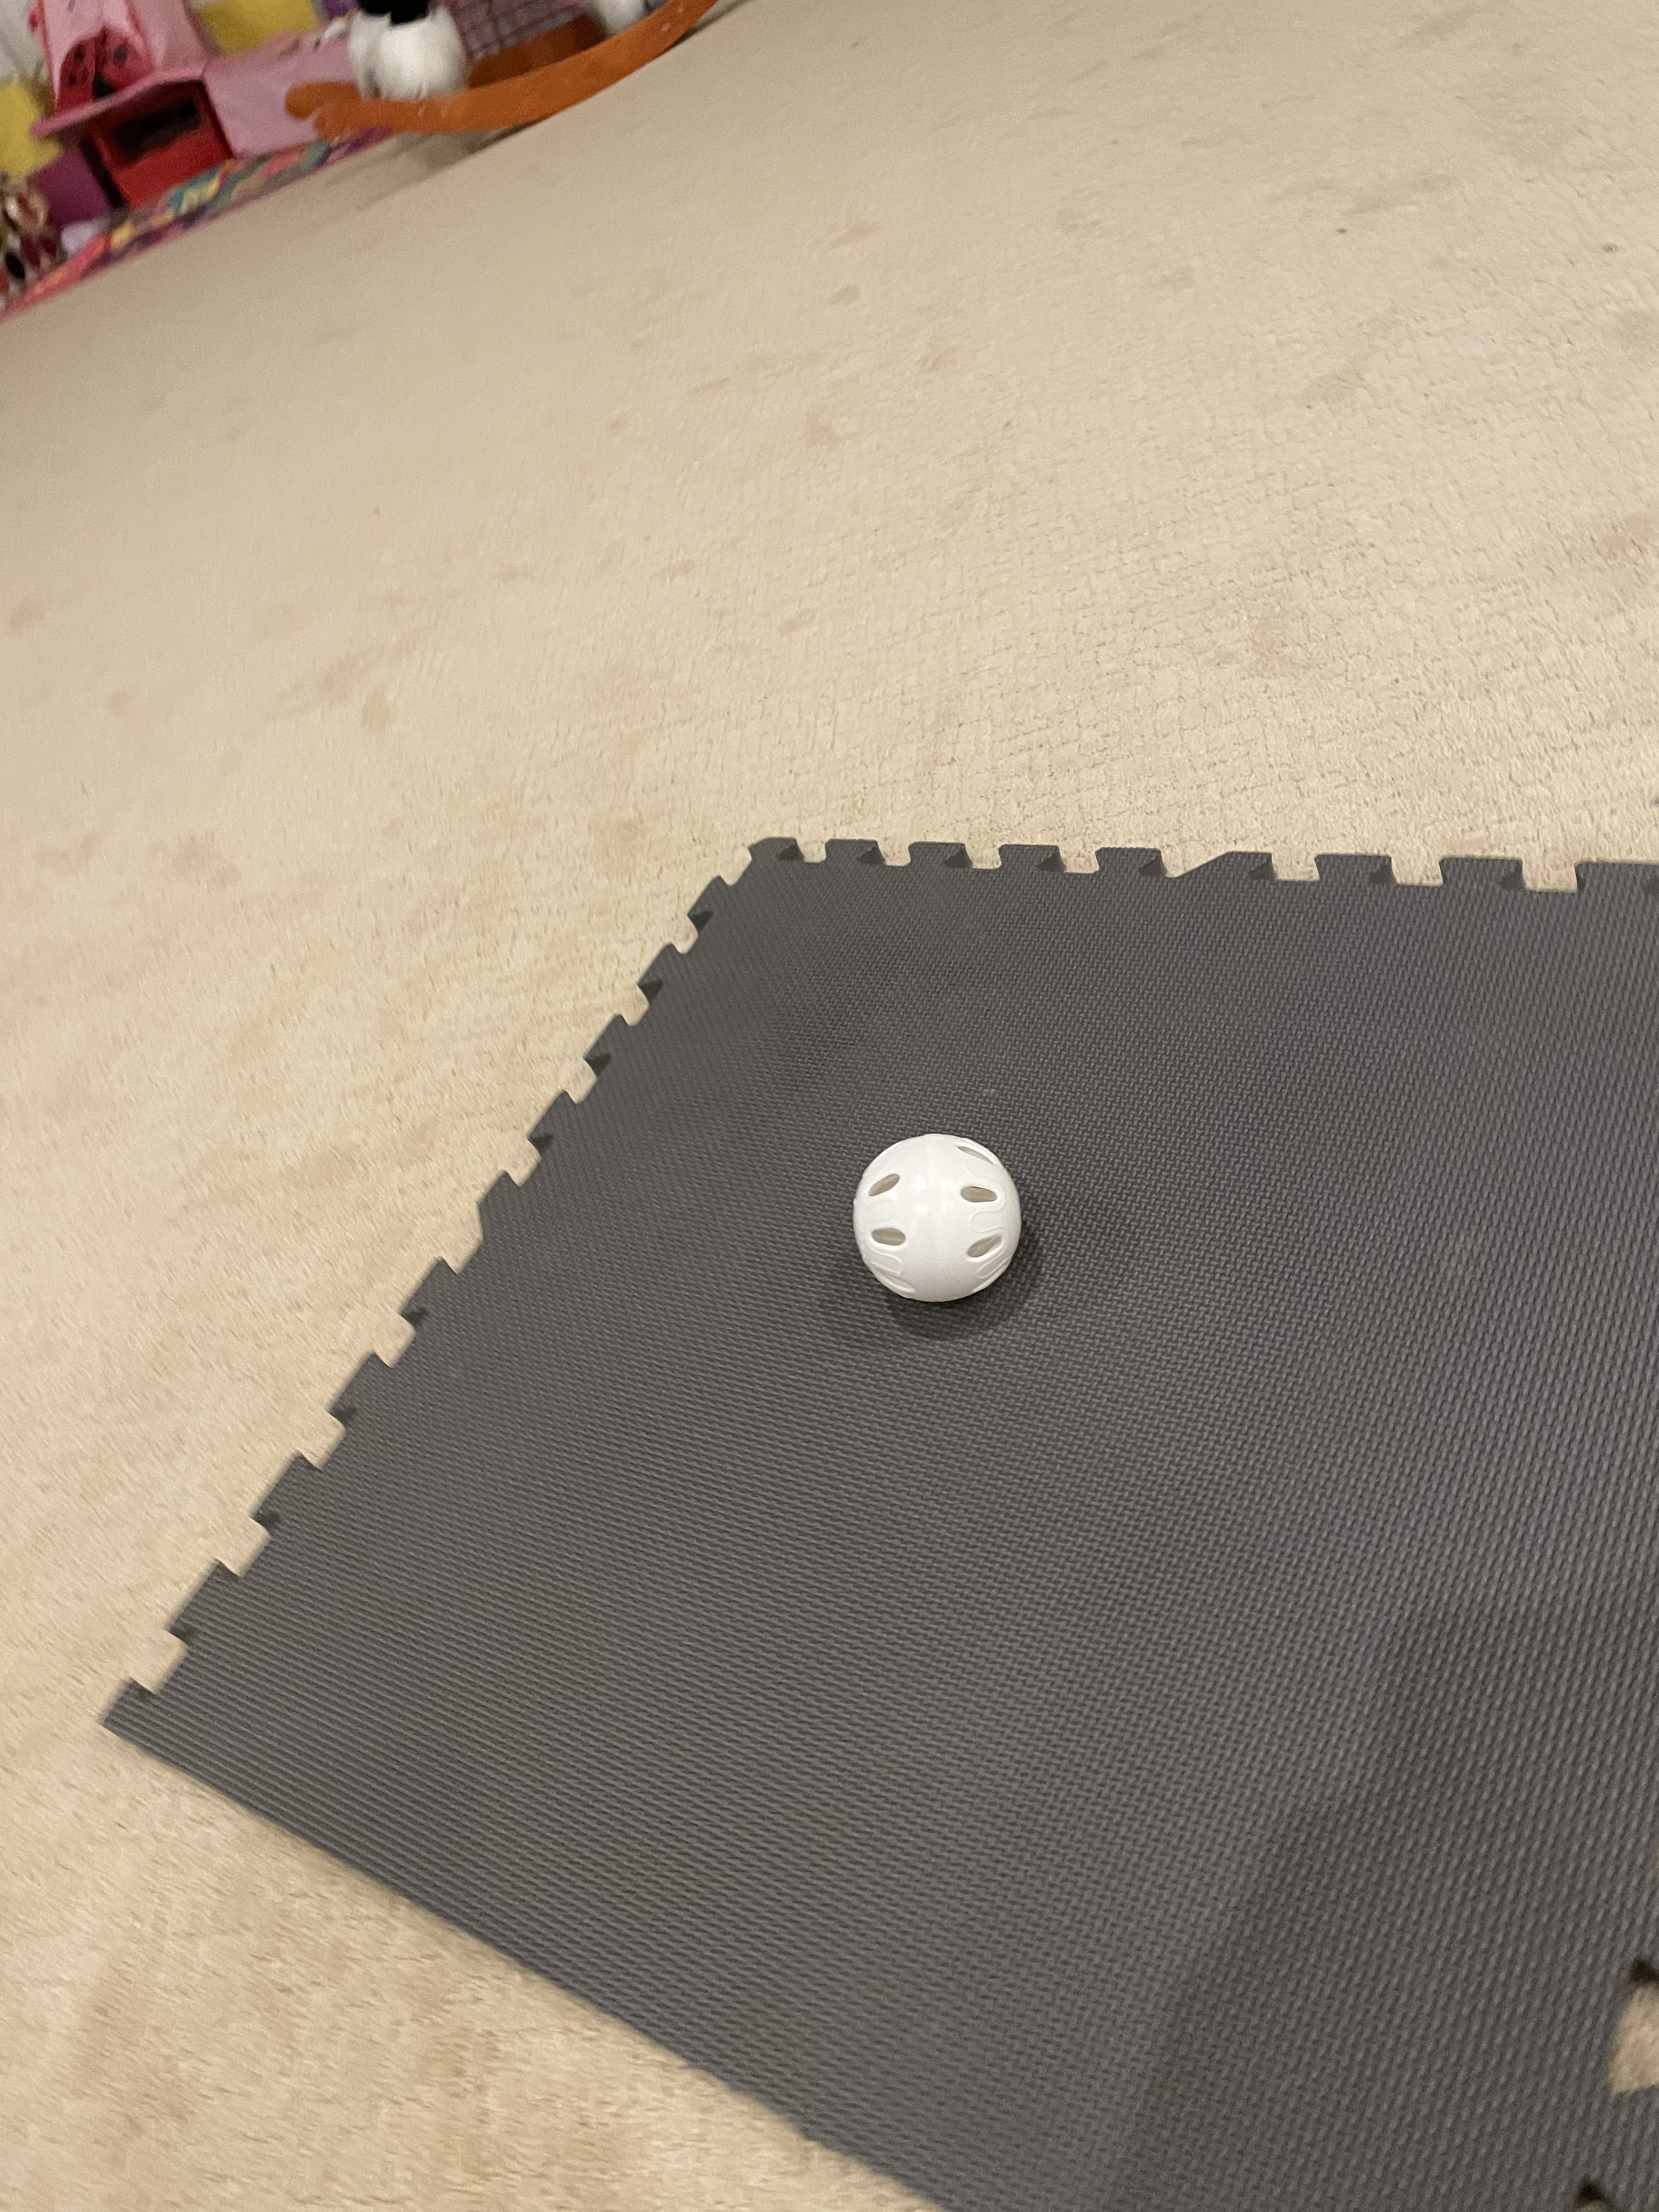ball: (823, 1113, 1026, 1317)
